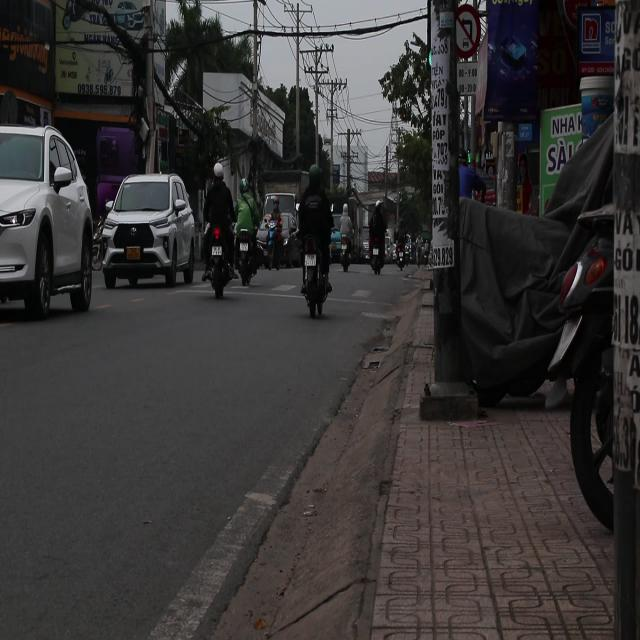car: (0, 122, 96, 321), (95, 174, 198, 288), (330, 230, 343, 262)
motorbike: (200, 220, 236, 298), (235, 211, 265, 289), (301, 226, 327, 314), (259, 221, 292, 271), (369, 231, 385, 276), (395, 246, 410, 272)
